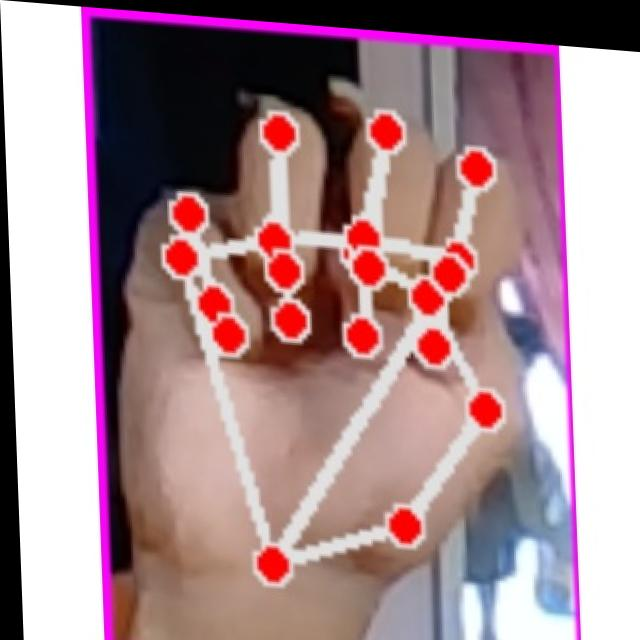M: (107, 41, 556, 640)
